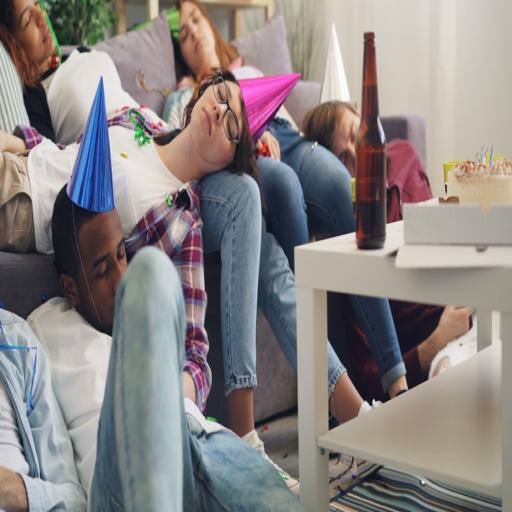face: (82, 220, 130, 318), (194, 83, 242, 159), (14, 0, 55, 60), (177, 8, 211, 63)
